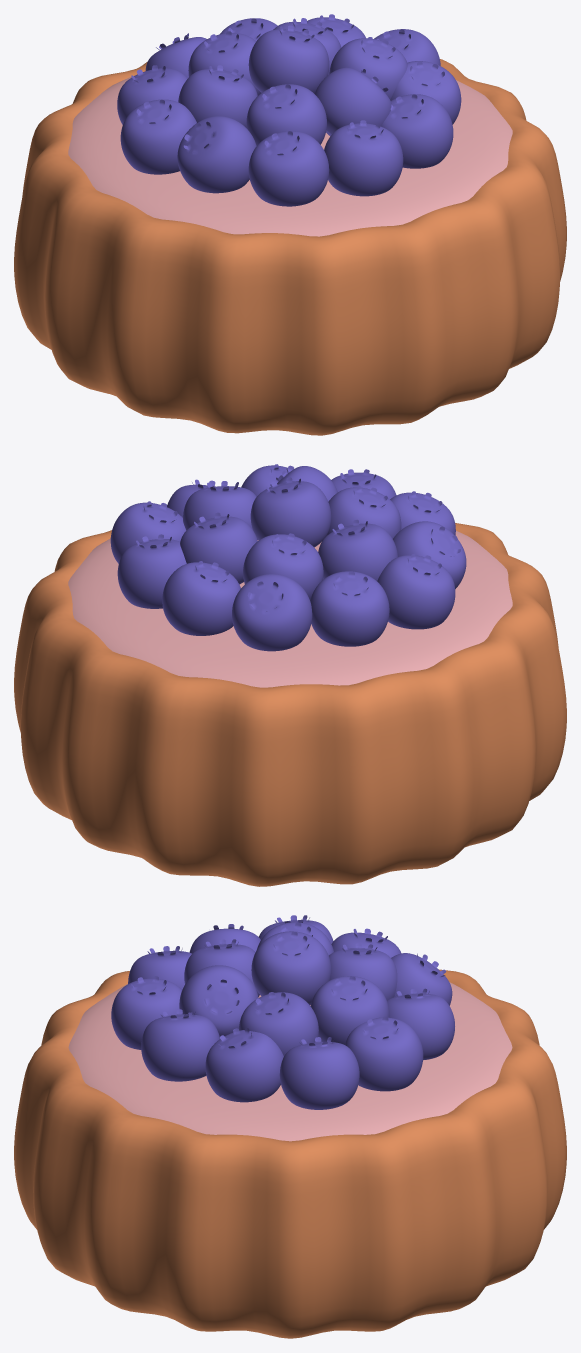
The model's file is blueberry-tart.fbx.
The picture shows the model from 3 angles, top to bottom: view 1: azimuth 30°, elevation 25°; view 2: azimuth 150°, elevation 25°; view 3: azimuth 270°, elevation 25°; orthographic projection.
Visible parts, largest first — view 1: blueberry-tart, tart-cream.001, blueberry.016, blueberry.017, blueberry.015, blueberry.018, blueberry.001, blueberry.014, blueberry.005, blueberry.006, blueberry.004, blueberry.007 (+8 smaller); view 2: blueberry-tart, tart-cream.001, blueberry.009, blueberry.008, blueberry.010, blueberry.018, blueberry.001, blueberry.011, blueberry.004, blueberry.002, blueberry.003, blueberry.012 (+8 smaller); view 3: blueberry-tart, tart-cream.001, blueberry.012, blueberry.013, blueberry.011, blueberry.001, blueberry.014, blueberry.006, blueberry.002, blueberry.007, blueberry.015, blueberry.010 (+7 smaller).
Boxes of the visible parts, x1=… form: blueberry-tart: x1=14, y1=59, x2=566, y2=435; tart-cream.001: x1=68, y1=75, x2=512, y2=236; blueberry.016: x1=248, y1=131, x2=329, y2=206; blueberry.017: x1=177, y1=116, x2=256, y2=193; blueberry.015: x1=324, y1=120, x2=403, y2=196; blueberry.018: x1=120, y1=99, x2=196, y2=174; blueberry.001: x1=248, y1=25, x2=329, y2=93; blueberry.014: x1=381, y1=94, x2=453, y2=168; blueberry.005: x1=246, y1=84, x2=326, y2=145; blueberry.006: x1=315, y1=67, x2=391, y2=136; blueberry.004: x1=178, y1=65, x2=257, y2=127; blueberry.007: x1=329, y1=37, x2=407, y2=99; blueberry-tart: x1=14, y1=523, x2=566, y2=886; tart-cream.001: x1=68, y1=531, x2=512, y2=687; blueberry.009: x1=232, y1=574, x2=312, y2=651; blueberry.008: x1=310, y1=571, x2=389, y2=646; blueberry.010: x1=162, y1=561, x2=240, y2=635; blueberry.018: x1=377, y1=554, x2=455, y2=629; blueberry.001: x1=250, y1=477, x2=331, y2=547; blueberry.011: x1=117, y1=534, x2=186, y2=608; blueberry.004: x1=318, y1=519, x2=397, y2=580; blueberry.002: x1=180, y1=512, x2=257, y2=584; blueberry.003: x1=243, y1=533, x2=323, y2=600; blueberry.012: x1=110, y1=501, x2=186, y2=563; blueberry-tart: x1=14, y1=969, x2=566, y2=1338; tart-cream.001: x1=68, y1=982, x2=512, y2=1141; blueberry.012: x1=279, y1=1037, x2=359, y2=1109; blueberry.013: x1=205, y1=1028, x2=283, y2=1102; blueberry.011: x1=345, y1=1016, x2=423, y2=1091; blueberry.001: x1=251, y1=931, x2=331, y2=1004; blueberry.014: x1=141, y1=1009, x2=219, y2=1081; blueberry.006: x1=179, y1=965, x2=258, y2=1036; blueberry.002: x1=310, y1=976, x2=389, y2=1044; blueberry.007: x1=239, y1=992, x2=318, y2=1055; blueberry.015: x1=111, y1=976, x2=181, y2=1049; blueberry.010: x1=387, y1=988, x2=454, y2=1060.
Size of the model in its own units: 316 by 200 by 316.
